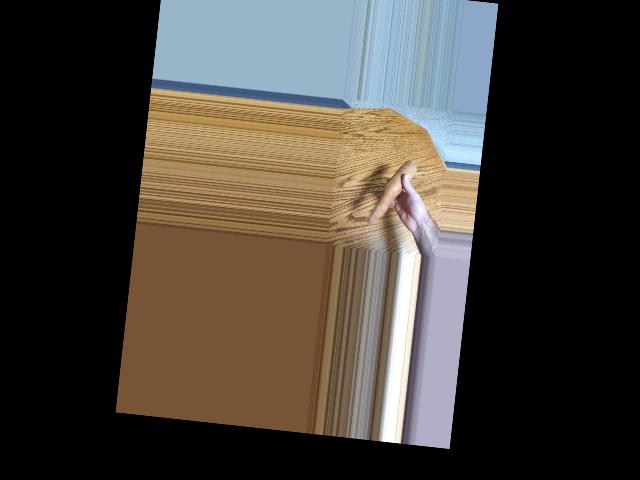sweet_potato: (372, 149, 416, 227)
